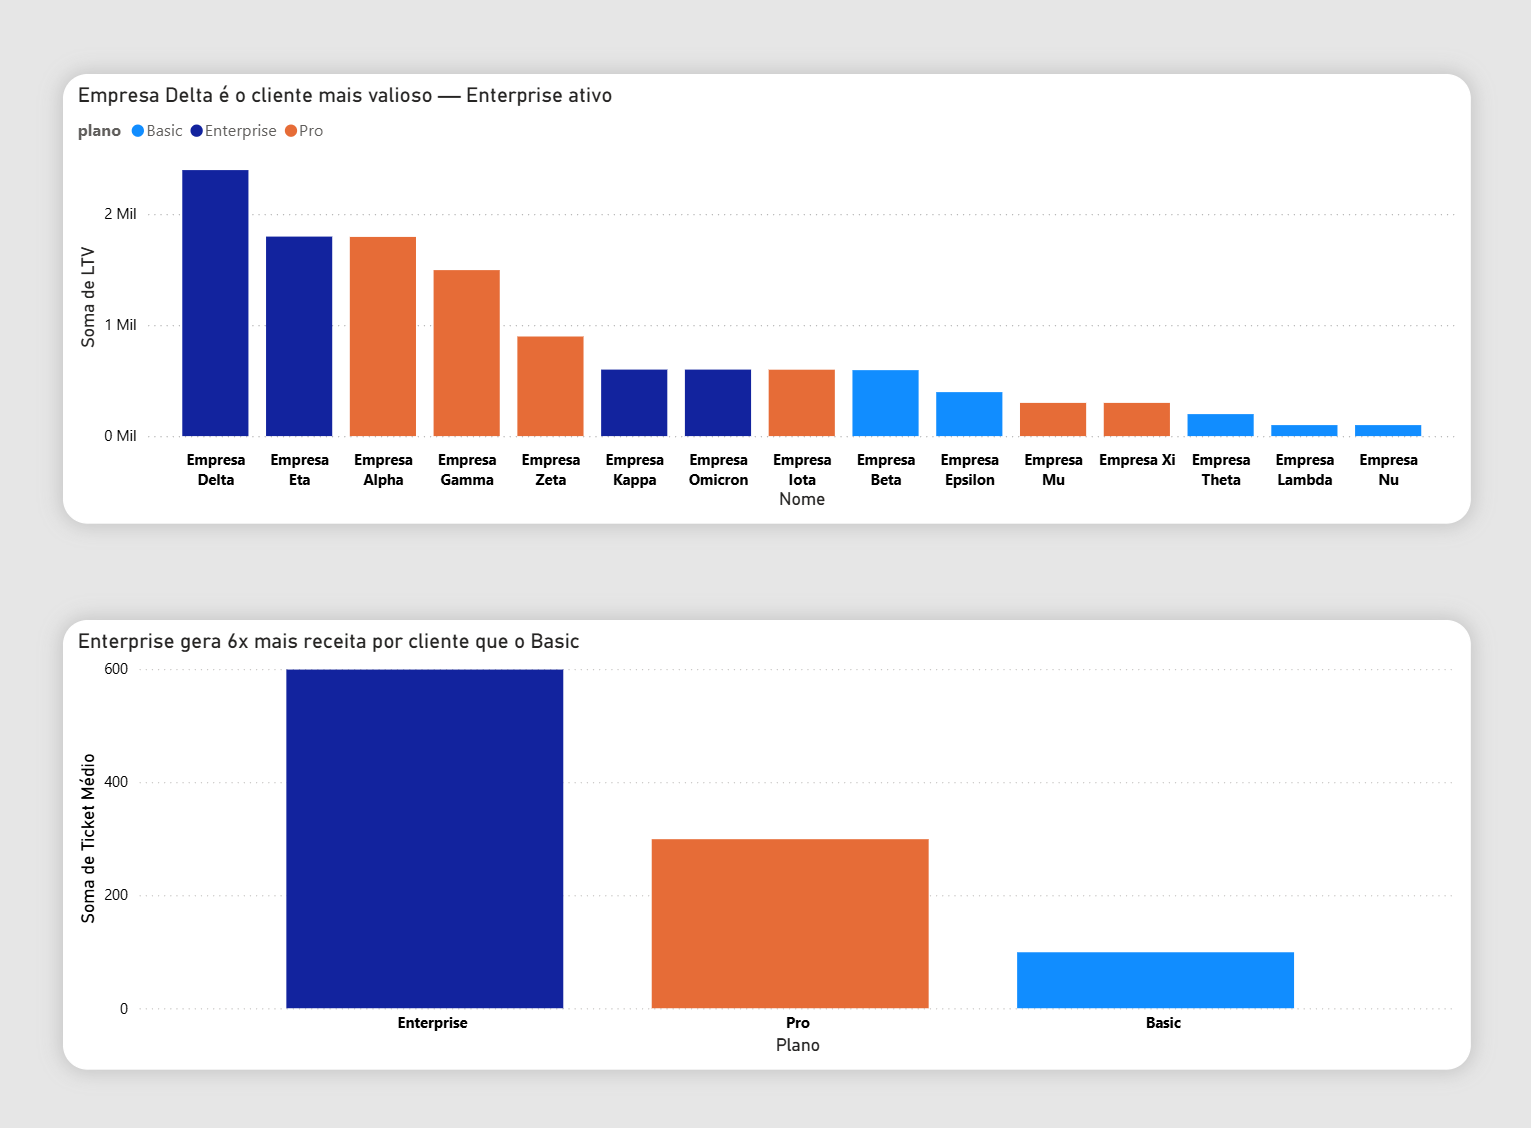

Layout of this report page (visuals, bound fields, positions):
{"tool":"powerbi","page":{"name":"Clientes","canvas":[1280,950],"ordinal":2},"visuals":[{"type":"columnChart","title":"Empresa Delta é o cliente mais valioso — Enterprise ativo","fields":{"Category":["06_ltv_clientes.nome"],"Y":["Sum(06_ltv_clientes.ltv_total)"],"Series":["06_ltv_clientes.plano"]},"box":[59.4,67.4,1148.6,366.9],"z":0},{"type":"columnChart","title":"Enterprise gera 6x mais receita por cliente que o Basic","fields":{"Category":["07_ticket_medio.plano"],"Y":["Sum(07_ticket_medio.ticket_medio)"]},"box":[59.4,513.1,1148.6,366.9],"z":1000}]}

Visuals, with their boxes in screenshot pixels (x1, y1, x2, y2), scaled from the page's 1280x950 canvas onto the 1531x1128 screenshot:
"Empresa Delta é o cliente mais valioso — Enterprise ativo" columnChart: box(71, 80, 1445, 516)
"Enterprise gera 6x mais receita por cliente que o Basic" columnChart: box(71, 609, 1445, 1045)
